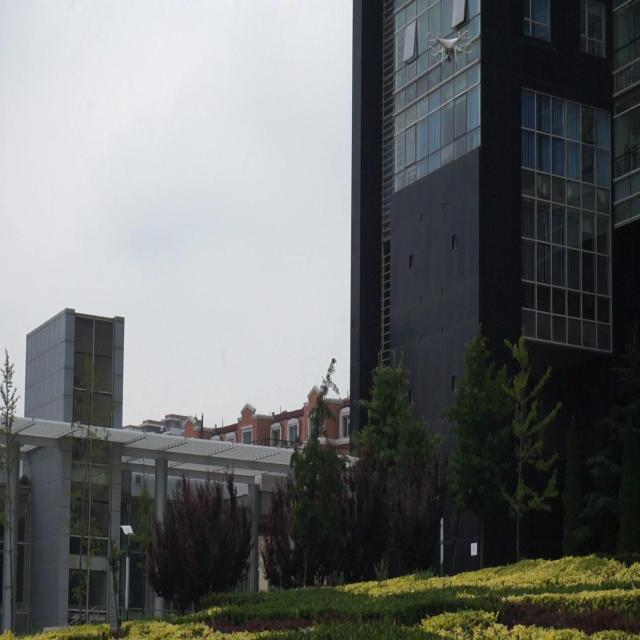drone: (424, 27, 473, 75)
